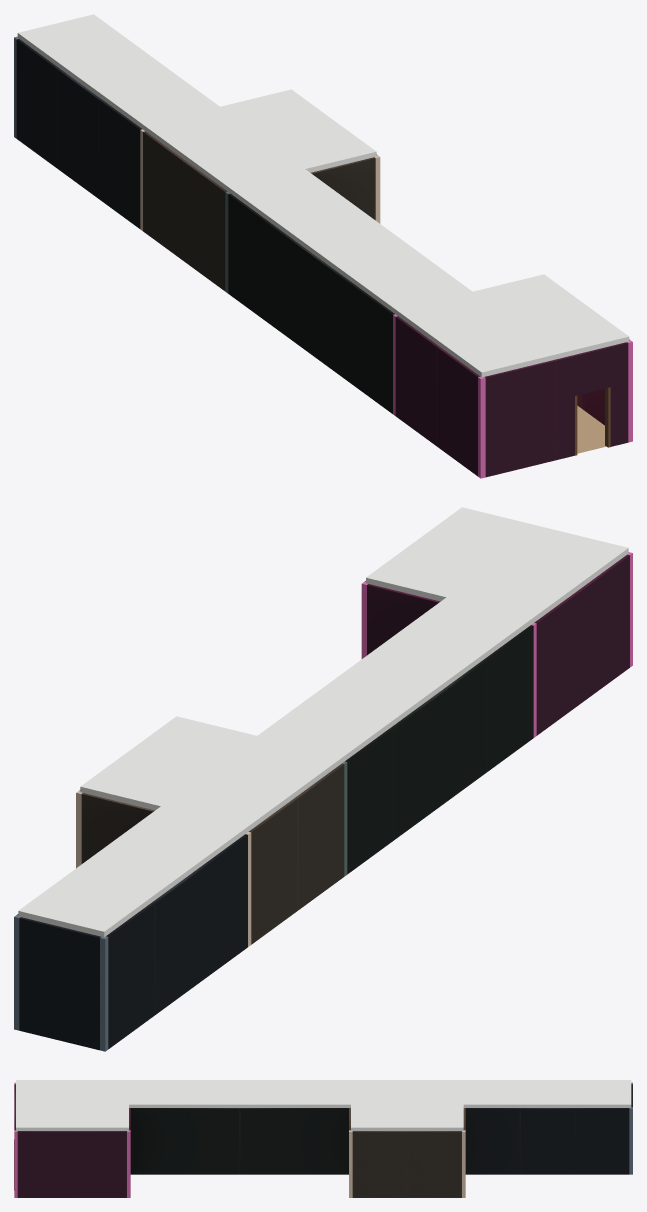
File: stanza_chiusa.glb
3 renders of one model, top to bottom at view 1: azimuth 30°, elevation 25°; view 2: azimuth 150°, elevation 25°; view 3: azimuth 270°, elevation 25°, orthographic. The views are drawn at different scales.
Visible parts, largest first — view 1: Soffitto_atrio_intimo, Soffitto_galleria_stretta_1, Soffitto_saletta_centrale, Soffitto_galleria_prospettica, Muro_atrio_intimo_S_1, Muro_atrio_intimo_S_2, Muro_saletta_centrale_O_2, Muro_galleria_stretta_1_O_2, Muro_saletta_centrale_O_1, Muro_atrio_intimo_O_2, Muro_galleria_prospettica_O_1, Muro_galleria_prospettica_O_3 (+8 smaller); view 2: Soffitto_galleria_stretta_1, Soffitto_saletta_centrale, Soffitto_atrio_intimo, Soffitto_galleria_prospettica, Muro_galleria_prospettica_N_1, Muro_saletta_centrale_O_1, Muro_atrio_intimo_O_2, Muro_galleria_prospettica_O_1, Muro_galleria_prospettica_O_2, Muro_galleria_stretta_1_O_1, Muro_galleria_prospettica_O_3, Muro_galleria_stretta_1_O_2 (+7 smaller); view 3: Soffitto_galleria_stretta_1, Soffitto_atrio_intimo, Soffitto_saletta_centrale, Soffitto_galleria_prospettica, Muro_atrio_intimo_E_1, Muro_galleria_prospettica_E_3, Muro_galleria_stretta_1_E_1, Muro_saletta_centrale_E_1, Muro_atrio_intimo_E_2, Muro_galleria_prospettica_E_1, Muro_galleria_prospettica_E_2, Muro_galleria_stretta_1_E_2 (+8 smaller).
Part boxes in pixels (x1,y1,x2,y2): Soffitto_atrio_intimo: (396,274,629,377); Soffitto_galleria_stretta_1: (229,169,472,314); Soffitto_saletta_centrale: (144,89,376,192); Soffitto_galleria_prospettica: (17,14,219,129); Muro_atrio_intimo_S_1: (484,359,556,477); Muro_atrio_intimo_S_2: (556,342,628,459); Muro_saletta_centrale_O_2: (143,131,186,261); Muro_galleria_stretta_1_O_2: (310,254,353,383); Muro_saletta_centrale_O_1: (184,161,227,291); Muro_atrio_intimo_O_2: (395,316,438,446); Muro_galleria_prospettica_O_1: (99,99,141,228); Muro_galleria_prospettica_O_3: (16,39,59,168); Soffitto_galleria_stretta_1: (257,597,532,761); Soffitto_saletta_centrale: (80,716,343,832); Soffitto_atrio_intimo: (366,507,628,623); Soffitto_galleria_prospettica: (18,806,246,937); Muro_galleria_prospettica_N_1: (19,917,101,1050); Muro_saletta_centrale_O_1: (295,763,344,910); Muro_atrio_intimo_O_2: (534,589,583,735); Muro_galleria_prospettica_O_1: (199,834,247,980); Muro_galleria_prospettica_O_2: (152,868,201,1014); Muro_galleria_stretta_1_O_1: (484,625,533,771); Muro_galleria_prospettica_O_3: (106,902,154,1049); Muro_galleria_stretta_1_O_2: (438,659,486,805); Soffitto_galleria_stretta_1: (129,1080,350,1107); Soffitto_atrio_intimo: (16,1080,128,1130); Soffitto_saletta_centrale: (351,1080,463,1130); Soffitto_galleria_prospettica: (463,1080,631,1107); Muro_atrio_intimo_E_1: (17,1131,72,1197); Muro_galleria_prospettica_E_3: (574,1108,629,1174); Muro_galleria_stretta_1_E_1: (130,1108,185,1174); Muro_saletta_centrale_E_1: (352,1131,407,1197); Muro_atrio_intimo_E_2: (72,1131,126,1197); Muro_galleria_prospettica_E_1: (465,1108,519,1174); Muro_galleria_prospettica_E_2: (520,1108,574,1174); Muro_galleria_stretta_1_E_2: (185,1108,239,1174).
Bounding box in the file's own units: 6.4 × 4.2 × 34.01.
Materials: 62 (49 with a texture image).
